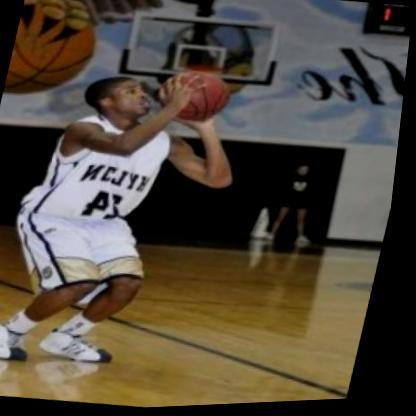basketball: (155, 62, 241, 131)
